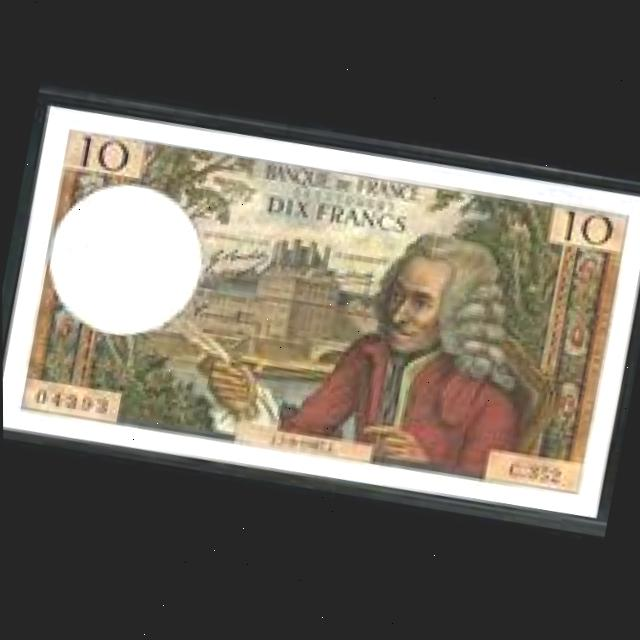banknote: (1, 86, 640, 543), (551, 199, 627, 260), (71, 121, 141, 180)
